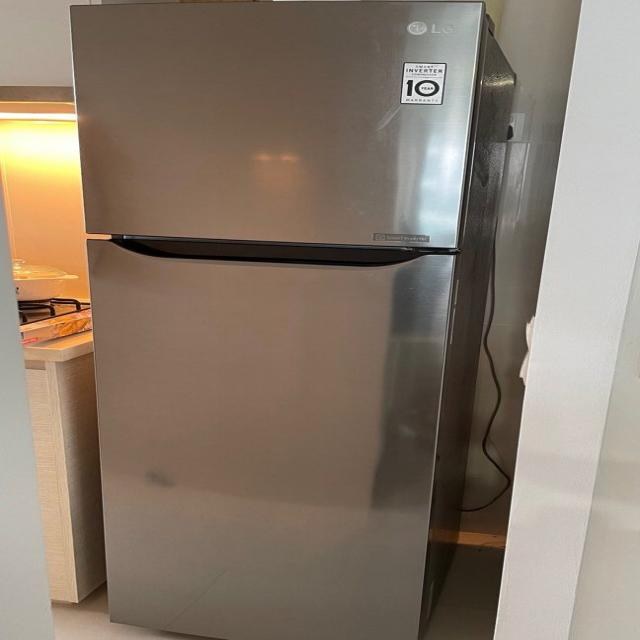refrigerator: (78, 5, 476, 638)
